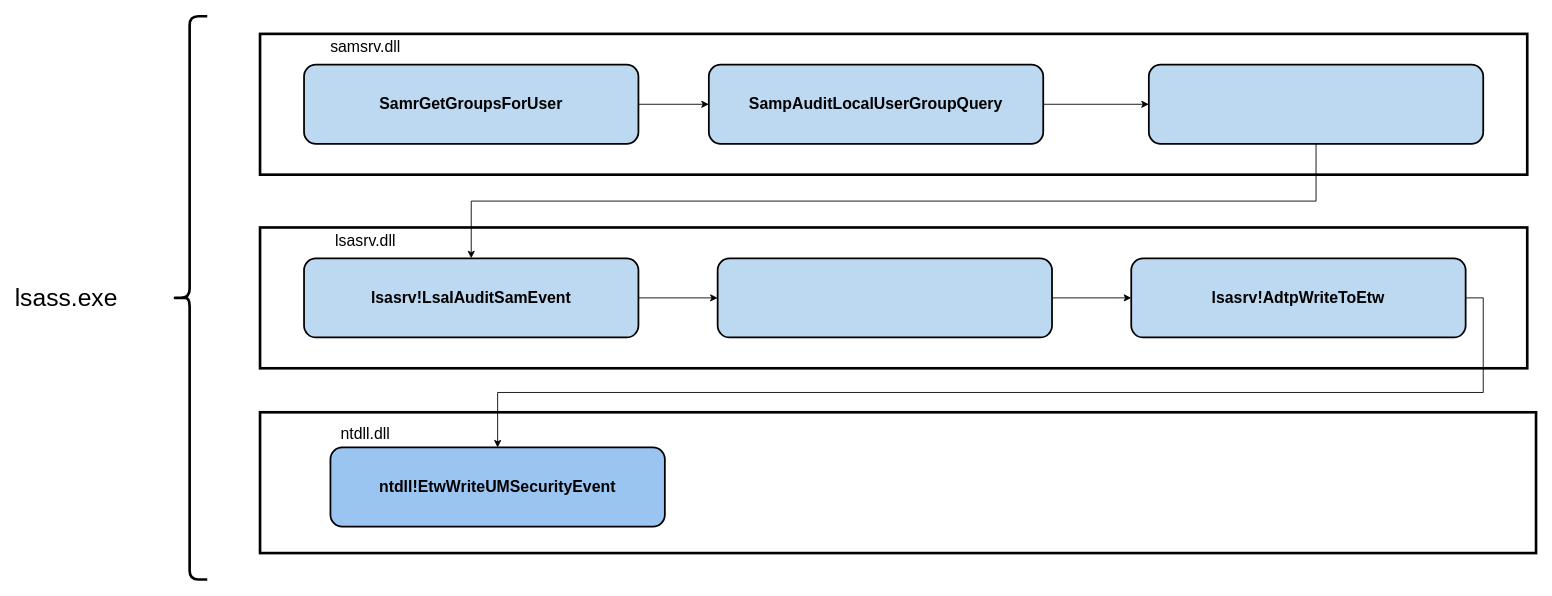
Some shapes in this 1552 by 596 pixel diagram are drawn without their labels. The shapes that lost their labels are listed below. From the top down, each one's centre as x and y in pixels, then its label:
point 1316,103: SampAuditAnyEvent
point 884,297: lsasrv!LsapAdtWriteLogEx
